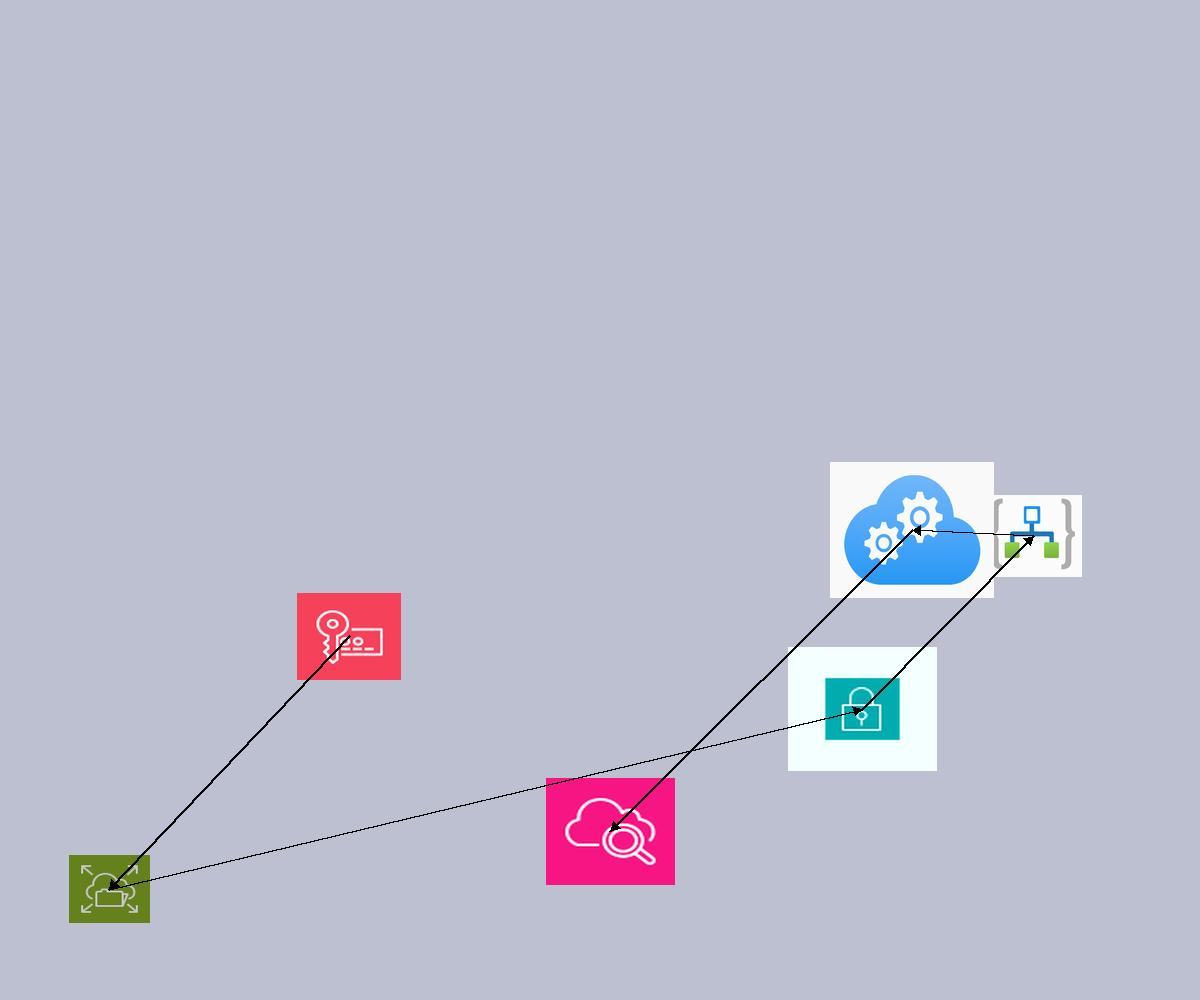AWS-CloudWatch: (546, 778, 675, 885)
AWS-EFS: (69, 855, 150, 923)
AWS-Key-Management-Service: (297, 593, 401, 680)
AWS-Private-subnet: (788, 647, 937, 771)
Azure_cloud_services: (830, 462, 994, 598)
Azure_integration-204-Logic-Apps: (984, 495, 1082, 577)
